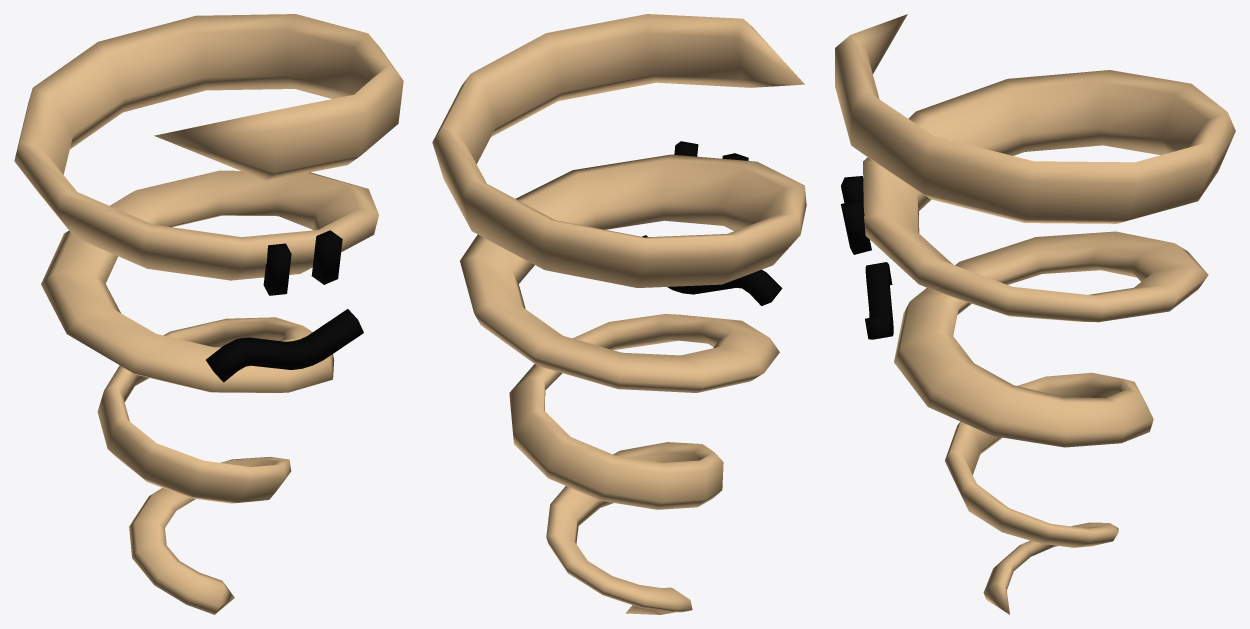
Rendered from TornadoEnemy2.fbx.
The picture shows the model from 3 angles, left to right: view 1: azimuth 30°, elevation 25°; view 2: azimuth 150°, elevation 25°; view 3: azimuth 270°, elevation 25°; orthographic projection. The views are drawn at different scales.
Parts seen in each view (by area): view 1: Plane, Cube; view 2: Plane, Cube; view 3: Plane, Cube.
Part boxes in pixels (<box>): Plane: <box>14,14,403,614</box>; Cube: <box>206,230,363,382</box>; Plane: <box>432,14,806,614</box>; Cube: <box>642,141,782,305</box>; Plane: <box>835,14,1235,614</box>; Cube: <box>841,176,893,339</box>.
Size of the model in its own units: 1.88 by 3 by 1.94.
